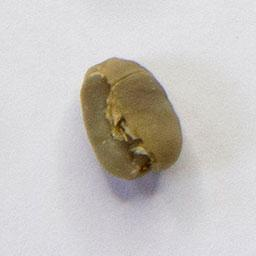peaberry: (78, 53, 189, 184)
